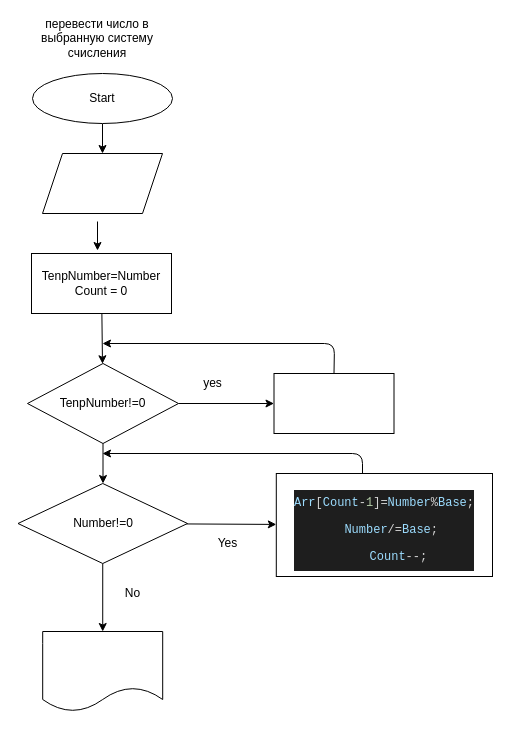
This 510x729 diagram has some shape labels left out. The box of each missing label's shape, as (x1, y1, x2, y2) in pixels:
input Base,N: (42, 152, 162, 214)
Print Arr: (42, 630, 163, 712)
TempNumber/=Base Count++: (273, 372, 394, 434)
